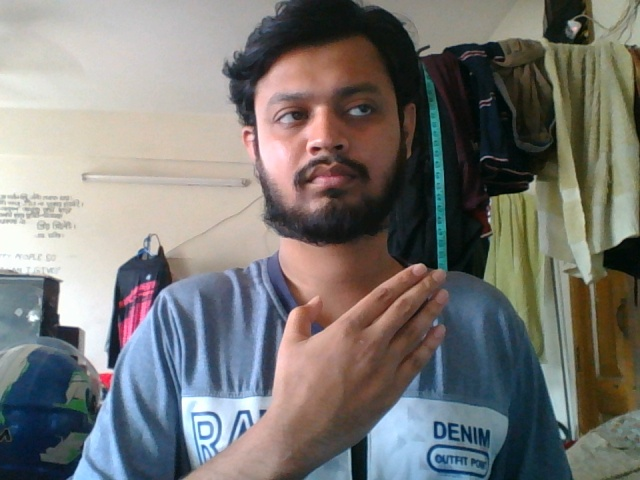ami: (220, 261, 457, 463)
